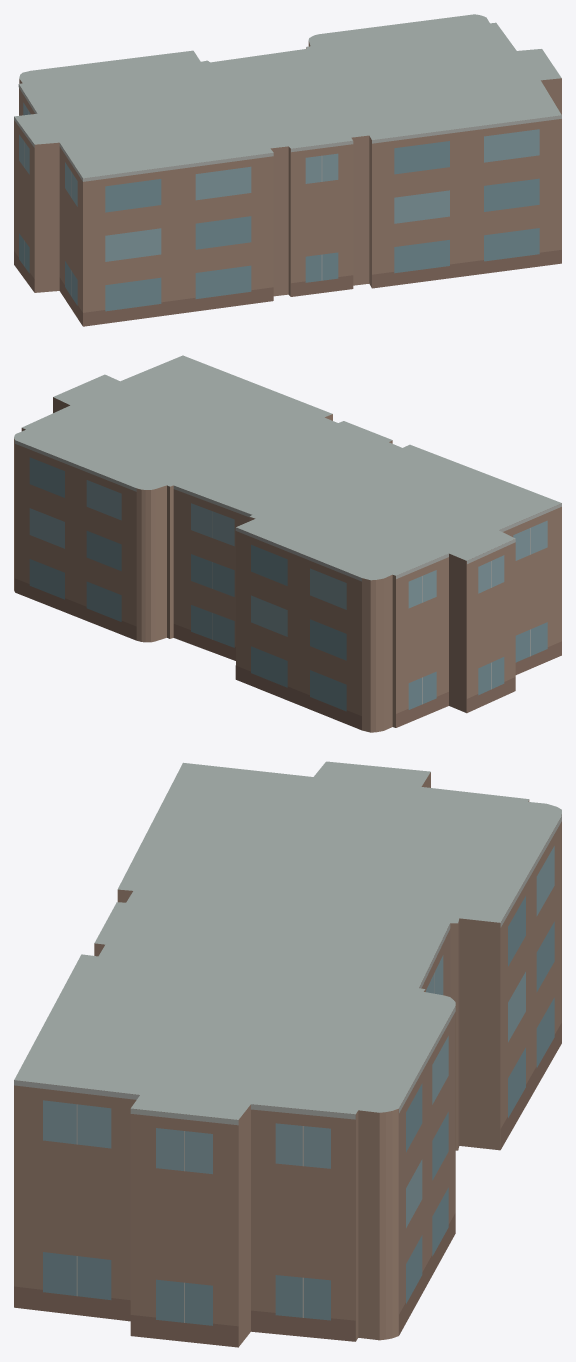
File: survey-upis-32683079.glb
3 views of the same model, one above another, from view 1: azimuth 30°, elevation 25°; view 2: azimuth 150°, elevation 25°; view 3: azimuth 270°, elevation 25° (orthographic). The views are drawn at different scales.
Visible parts, largest first — view 1: survey-upis-32683079.tmp; view 2: survey-upis-32683079.tmp; view 3: survey-upis-32683079.tmp.
Part boxes in pixels (box(x1,y1,x2,y2)): survey-upis-32683079.tmp: box(14, 14, 561, 326); survey-upis-32683079.tmp: box(14, 355, 561, 732); survey-upis-32683079.tmp: box(14, 761, 561, 1347).
Size of the model in its own units: 35.16 by 10.4 by 22.7.
